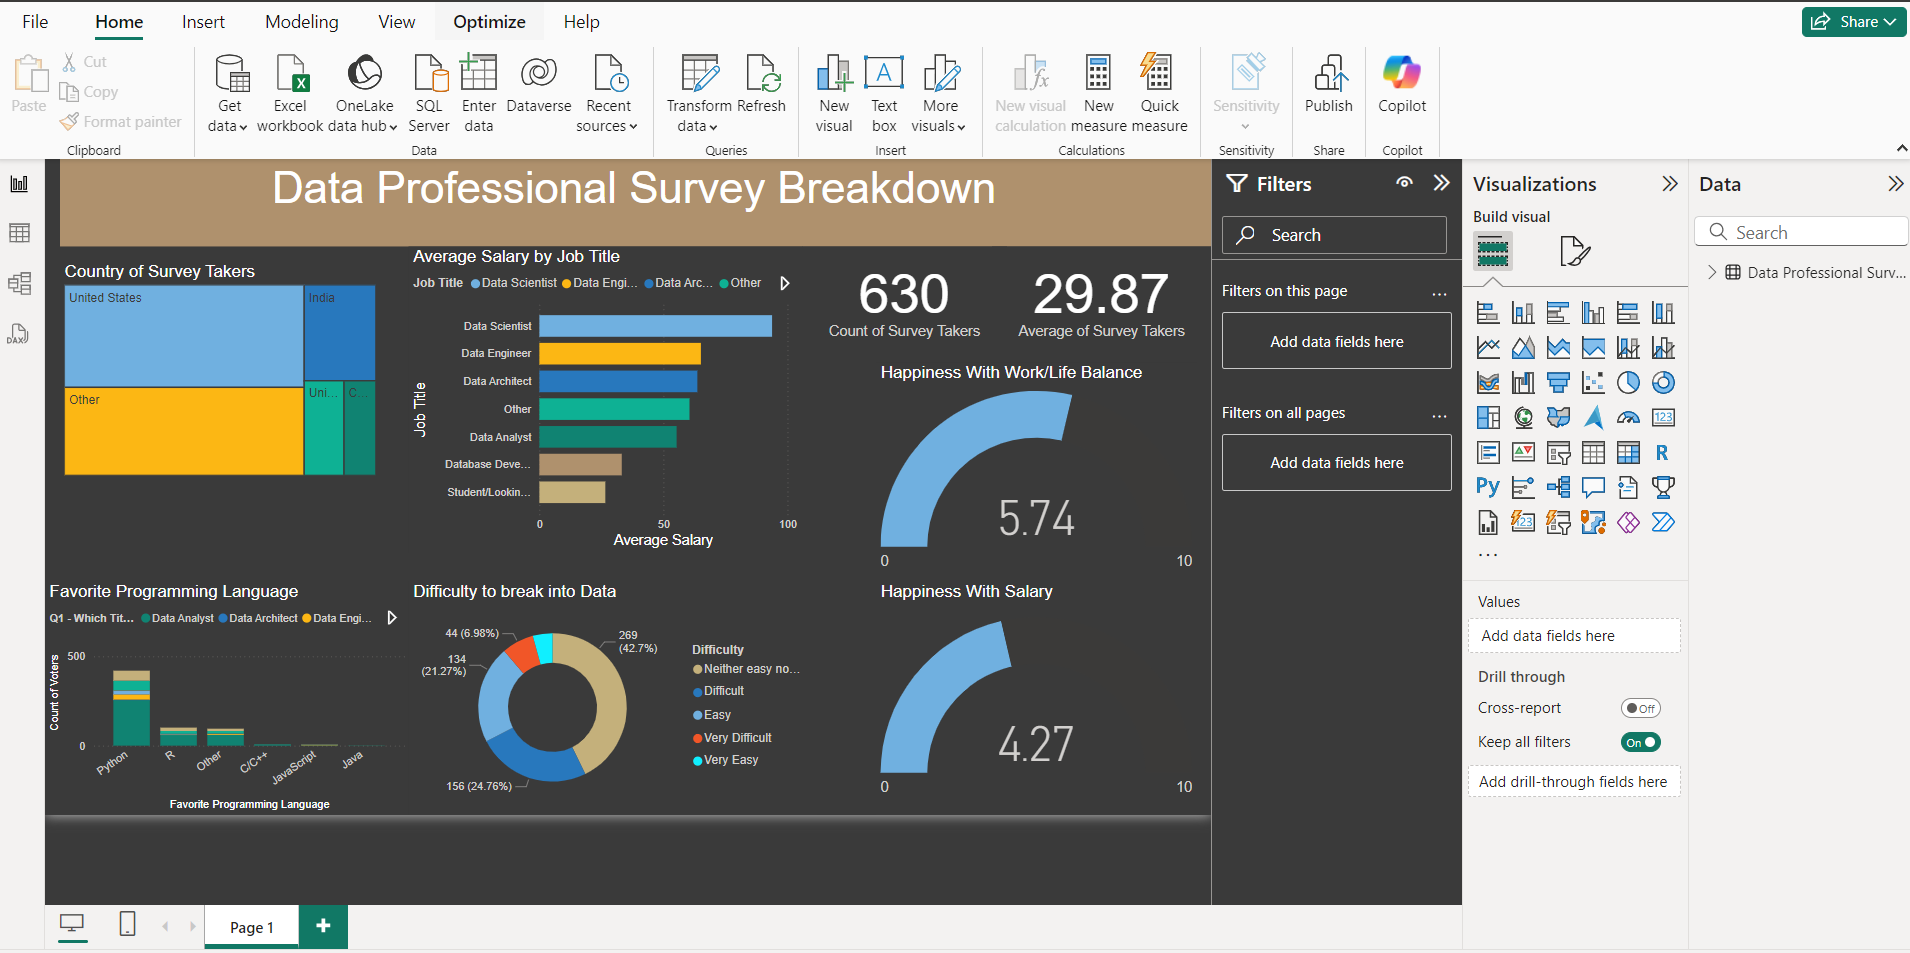

The dashboard page shown, as its layout file describes it:
{"tool":"powerbi","page":{"name":"Page 1","canvas":[1280,720],"ordinal":0},"visuals":[{"type":"textbox","box":[16,0,1264,96],"z":0},{"type":"card","fields":{"Values":["Count(Data Professional Survey.Unique ID)"]},"box":[832,96,224,112],"z":1000},{"type":"card","fields":{"Values":["Avg(Data Professional Survey.Q10 - Current Age)"]},"box":[1040,96,240,112],"z":2000},{"type":"barChart","title":"Average Salary by Job Title","fields":{"Category":["Data Professional Survey.Q1 - Which Title Best Fits your Current Role?.1"],"Y":["Avg(Data Professional Survey.Average Salary)"],"Series":["Data Professional Survey.Q1 - Which Title Best Fits your Current Role?.1"]},"box":[400,96,432,336],"z":3000},{"type":"columnChart","title":"Favorite Programming Language","fields":{"Category":["Data Professional Survey.Q5 - Favorite Programming Language.1"],"Y":["CountNonNull(Data Professional Survey.Unique ID)"],"Series":["Data Professional Survey.Q1 - Which Title Best Fits your Current Role?.1"]},"box":[0,464,400,256],"z":4000},{"type":"treemap","title":"Country of Survey Takers","fields":{"Group":["Data Professional Survey.Q11 - Which Country do you live in?.1"],"Values":["CountNonNull(Data Professional Survey.Q11 - Which Country do you live in?.1)"]},"box":[16,112,352,240],"z":5000},{"type":"gauge","title":"Happiness With Work/Life Balance","fields":{"Y":["Avg(Data Professional Survey.Q6 - How Happy are you in your Current Position with the following? (Work/Life Balance))"],"MinValue":["Min(Data Professional Survey.Q6 - How Happy are you in your Current Position with the following? (Work/Life Balance))1"],"MaxValue":["Max(Data Professional Survey.Q6 - How Happy are you in your Current Position with the following? (Work/Life Balance))2"]},"box":[912,224,352,240],"z":6000},{"type":"gauge","title":"Happiness With Salary","fields":{"Y":["Avg(Data Professional Survey.Q6 - How Happy are you in your Current Position with the following? (Salary))"],"MinValue":["Min(Data Professional Survey.Q6 - How Happy are you in your Current Position with the following? (Salary))"],"MaxValue":["Max(Data Professional Survey.Q6 - How Happy are you in your Current Position with the following? (Salary))"]},"box":[912,464,352,256],"z":7000},{"type":"donutChart","title":"Difficulty to break into Data","fields":{"Category":["Data Professional Survey.Q7 - How difficult was it for you to break into Data?"],"Y":["CountNonNull(Data Professional Survey.Q7 - How difficult was it for you to break into Data?)"]},"box":[400,464,448,256],"z":8000}]}

Visuals, with their boxes on the page's 1280x720 design canvas (x1, y1, x2, y2). These are canvas units, not pixel positions in the 1910x953 screenshot, which may show the page scaled, cropped or inside an application window:
textbox: 16, 0, 1280, 96
card - Count(Data Professional Survey.Unique ID): 832, 96, 1056, 208
card - Avg(Data Professional Survey.Q10 - Current Age): 1040, 96, 1280, 208
"Average Salary by Job Title" barChart: 400, 96, 832, 432
"Favorite Programming Language" columnChart: 0, 464, 400, 720
"Country of Survey Takers" treemap: 16, 112, 368, 352
"Happiness With Work/Life Balance" gauge: 912, 224, 1264, 464
"Happiness With Salary" gauge: 912, 464, 1264, 720
"Difficulty to break into Data" donutChart: 400, 464, 848, 720
